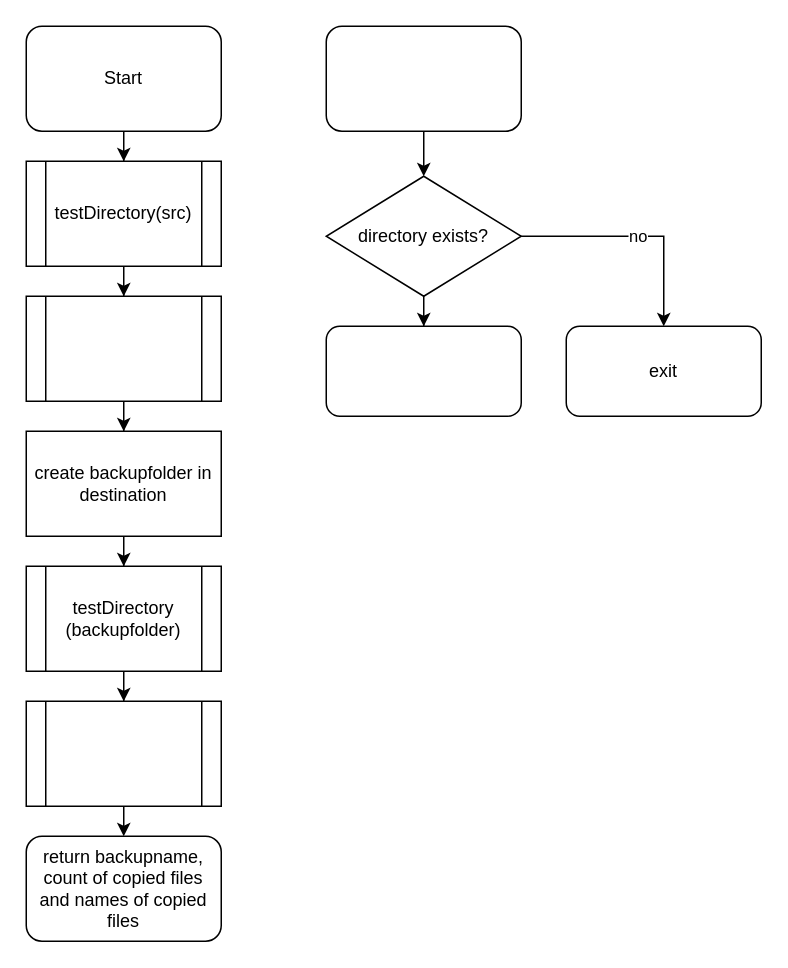
This 788x968 diagram has some shape labels left out. The shapes that lost their labels are listed below. From the top down, each one's centre as x and y in pixels, then its label:
(423,78): testDirectory
(123,348): testDirectory(dest)
(423,370): return directory
(123,753): makeBackup (src, backupfolder)
